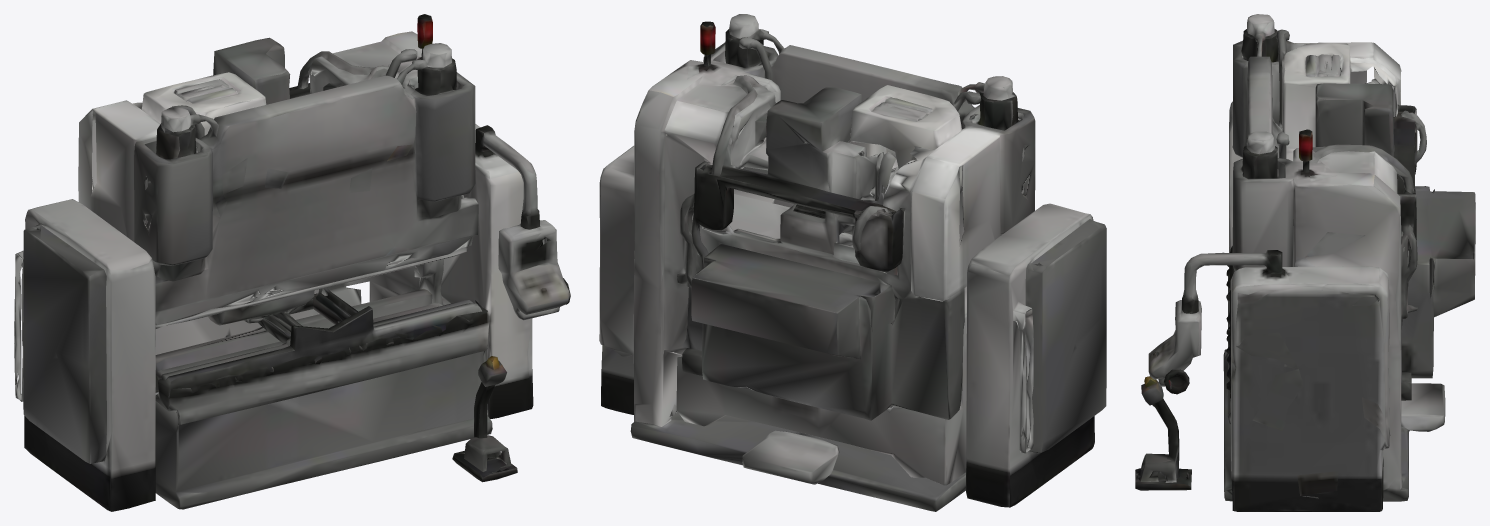
Rendered from press_brake.glb.
3 renders of one model, left to right at view 1: azimuth 30°, elevation 25°; view 2: azimuth 150°, elevation 25°; view 3: azimuth 270°, elevation 25°, orthographic. The views are drawn at different scales.
Parts seen in each view (by area): view 1: geometry_0; view 2: geometry_0; view 3: geometry_0.
Boxes of the visible parts, <box> form: geometry_0: <box>14,14,570,511</box>; geometry_0: <box>599,14,1106,511</box>; geometry_0: <box>1135,14,1475,511</box>.
Bounding box in the file's own units: 1 × 0.8485 × 0.7271.
Materials: 1 (1 with a texture image).
